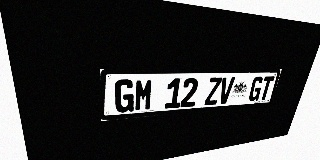1: (164, 78, 183, 109)
2: (180, 78, 199, 107)
G: (115, 79, 135, 113), (247, 76, 264, 102)
M: (134, 79, 154, 111)
T: (258, 76, 275, 101)
V: (217, 77, 235, 104)
Z: (204, 77, 222, 105)
